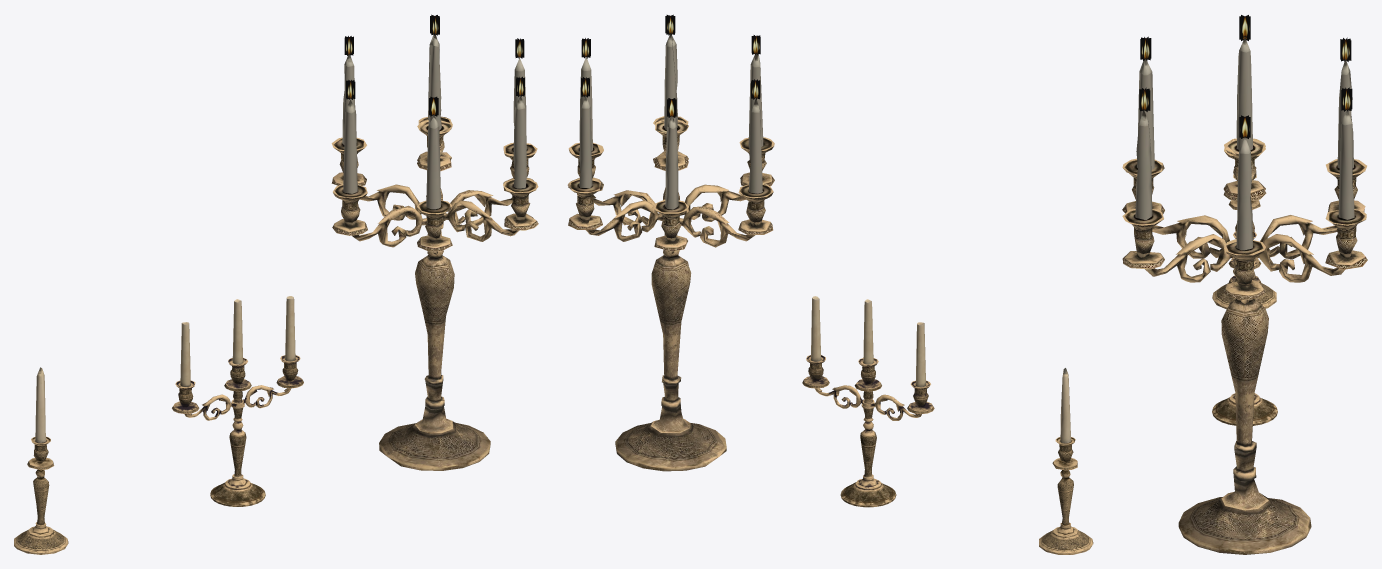
File: brass_candleholders.glb
3 renders of one model, left to right at view 1: azimuth 30°, elevation 25°; view 2: azimuth 150°, elevation 25°; view 3: azimuth 270°, elevation 25°, orthographic. The views are drawn at different scales.
Parts seen in each view (by area): view 1: brass_candleholder_03, brass_candleholder_02, brass_candleholder_01; view 2: brass_candleholder_03, brass_candleholder_02, brass_candleholder_01; view 3: brass_candleholder_03, brass_candleholder_02, brass_candleholder_01.
Part boxes in pixels (x1,y1,x2,y2): brass_candleholder_03: (331,14,538,470); brass_candleholder_02: (172,296,303,506); brass_candleholder_01: (14,367,68,554); brass_candleholder_03: (567,14,774,471); brass_candleholder_02: (802,296,934,507); brass_candleholder_01: (1039,368,1093,554); brass_candleholder_03: (1122,15,1367,554); brass_candleholder_02: (1212,232,1277,425); brass_candleholder_01: (1212,174,1276,309).
Bounding box in the file's own units: 1.05 × 0.8353 × 0.3645.
Materials: 5 (5 with a texture image).
